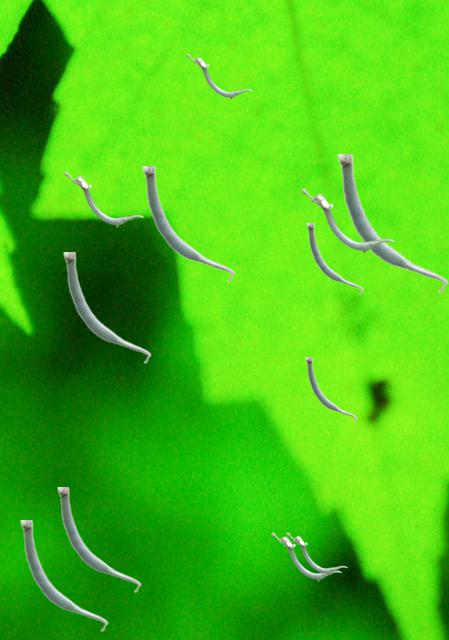french_bean: (337, 154, 447, 293), (142, 166, 234, 282), (20, 520, 107, 631), (63, 252, 150, 363), (57, 487, 140, 592), (301, 188, 393, 252), (64, 171, 142, 226), (306, 223, 362, 294), (305, 357, 356, 422), (271, 532, 340, 580), (186, 53, 251, 98), (286, 532, 346, 574)
